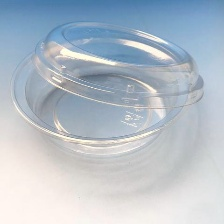plastic_box: (6, 18, 207, 164)
